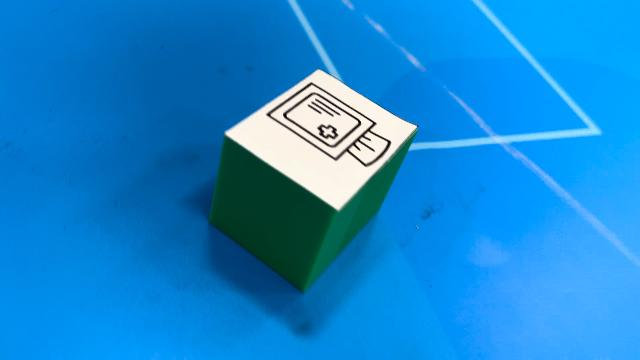napkin: (220, 69, 416, 287)
